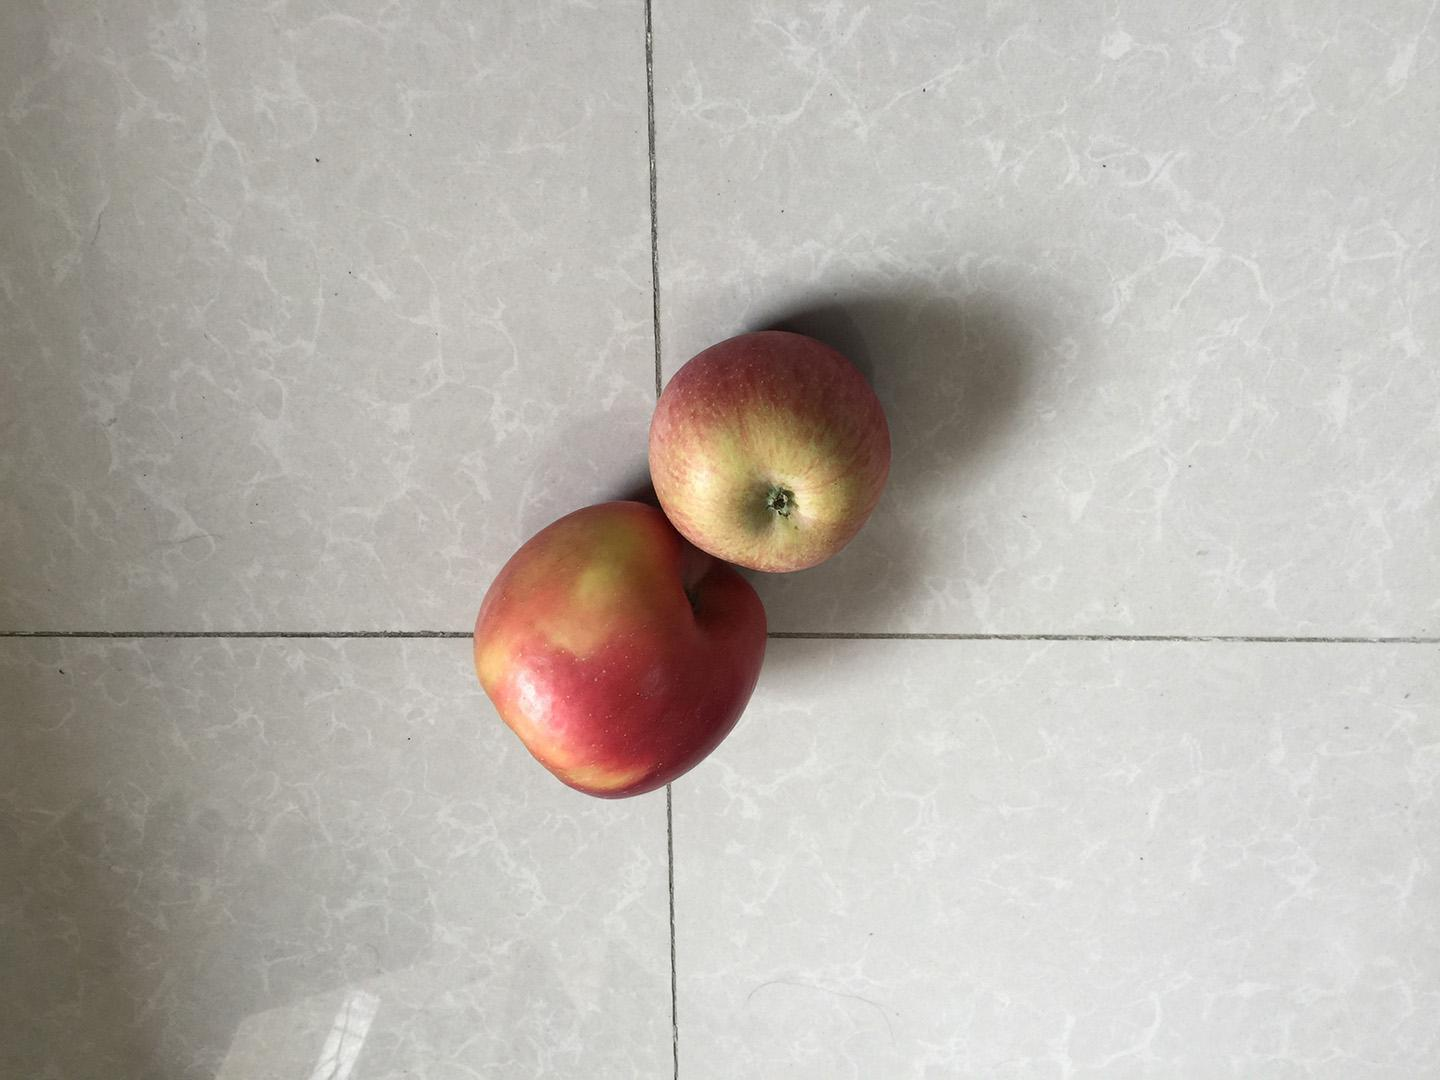apple: (465, 492, 773, 804), (643, 319, 897, 579)
